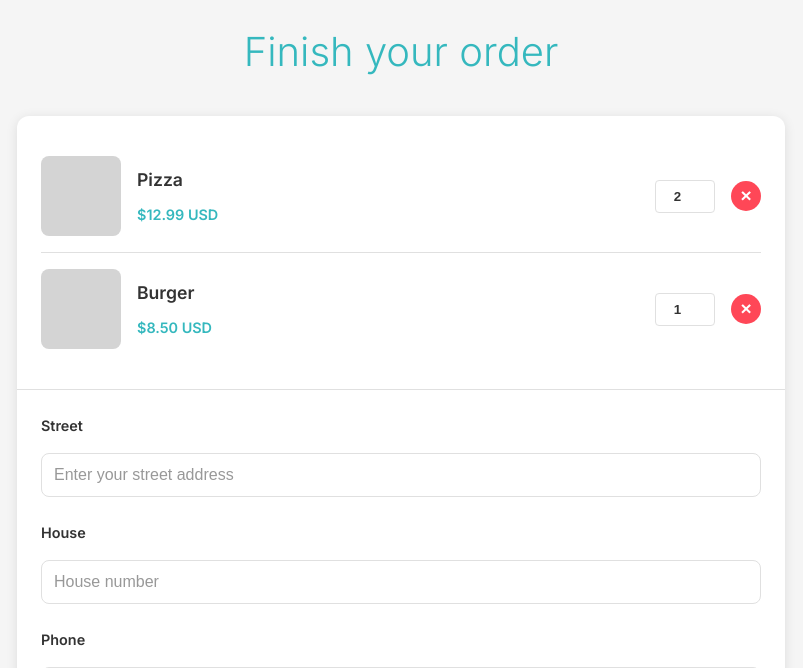
Scenario: OrderPage Cart Functionality › Item Removal › should update total after item removal
The width and height of the screenshot is (803, 668).
Click the button named "remove item".
click(746, 196)  # box [731,181,761,211]
(page scrolled)
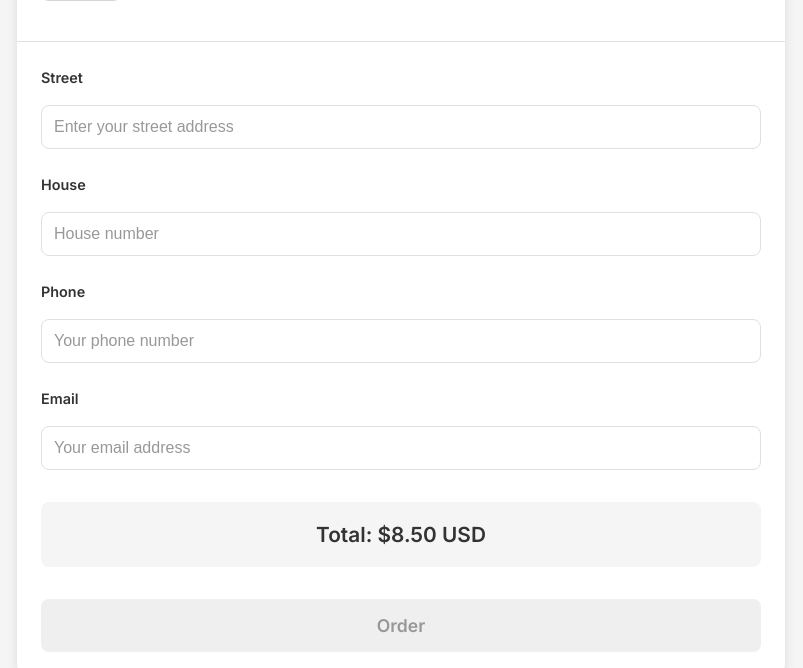
Result: the text "Total: $8.50 USD" is shown at [316,522,486,547]
